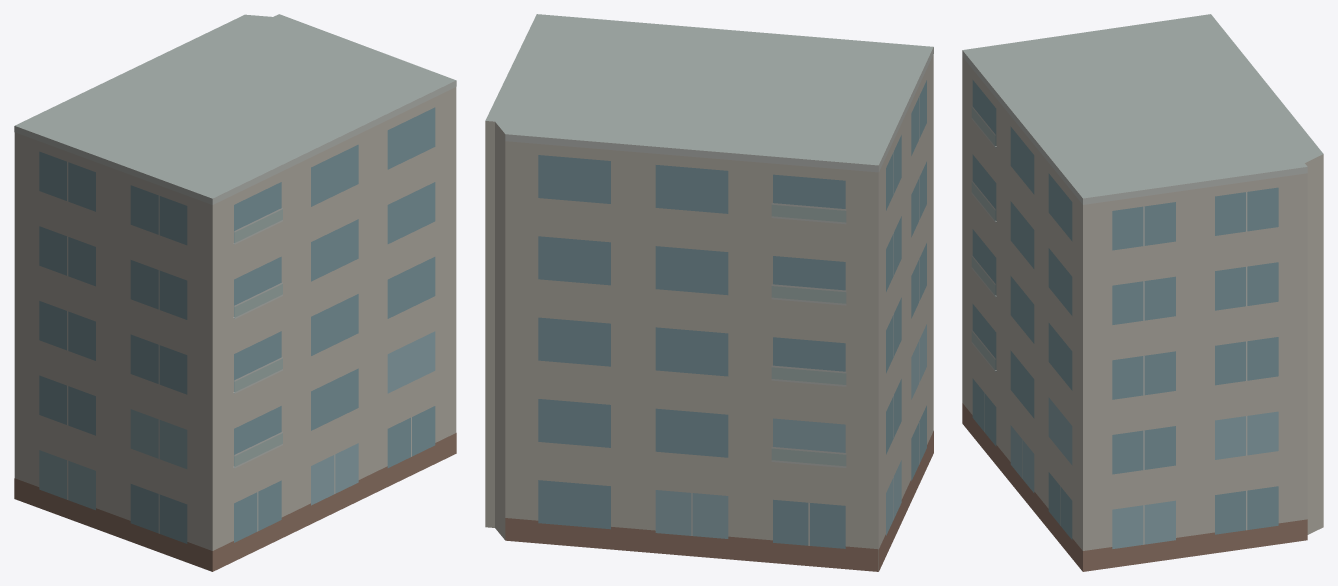
Rendered from survey-upis-32704737.glb.
The picture shows the model from 3 angles, left to right: view 1: azimuth 30°, elevation 25°; view 2: azimuth 150°, elevation 25°; view 3: azimuth 270°, elevation 25°; orthographic projection. The views are drawn at different scales.
Visible parts, largest first — view 1: survey-upis-32704737.tmp; view 2: survey-upis-32704737.tmp; view 3: survey-upis-32704737.tmp.
Part boxes in pixels (x1,y1,x2,y2): survey-upis-32704737.tmp: (14, 14, 456, 571); survey-upis-32704737.tmp: (485, 14, 933, 571); survey-upis-32704737.tmp: (962, 14, 1323, 571).
Bounding box in the file's own units: 15.01 × 14.15 × 12.42.
